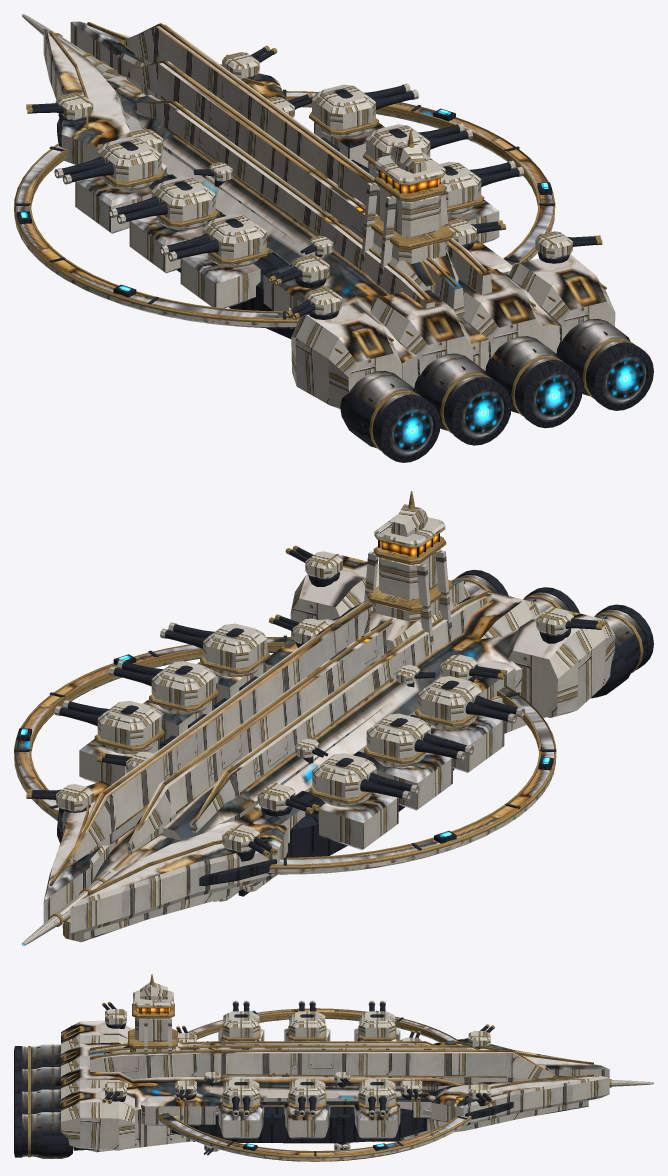
Rendered from authority-arbiter.glb.
3 views of the same model, one above another, from view 1: azimuth 30°, elevation 25°; view 2: azimuth 150°, elevation 25°; view 3: azimuth 270°, elevation 25° (orthographic). The views are drawn at different scales.
Visible parts, largest first — view 1: hull / Authority ivory, navy and antique gold, interdiction-halo / Authority ivory, navy and antique gold, turret-starboard-1 / Authority ivory, navy and antique gold, turret-port-1 / Authority ivory, navy and antique gold, turret-port-3 / Authority ivory, navy and antique gold, turret-port-2 / Authority ivory, navy and antique gold, turret-starboard-3 / Authority ivory, navy and antique gold, turret-starboard-2 / Authority ivory, navy and antique gold, secondary-starboard-4 / Authority ivory, navy and antique go, secondary-port-1 / Authority ivory, navy and antique gold, secondary-port-3 / Authority ivory, navy and antique gold, secondary-port-4 / Authority ivory, navy and antique gold (+2 smaller); view 2: hull / Authority ivory, navy and antique gold, interdiction-halo / Authority ivory, navy and antique gold, turret-starboard-3 / Authority ivory, navy and antique gold, turret-starboard-1 / Authority ivory, navy and antique gold, turret-starboard-2 / Authority ivory, navy and antique gold, turret-port-2 / Authority ivory, navy and antique gold, turret-port-1 / Authority ivory, navy and antique gold, turret-port-3 / Authority ivory, navy and antique gold, secondary-port-4 / Authority ivory, navy and antique gold, secondary-starboard-1 / Authority ivory, navy and antique go, secondary-port-2 / Authority ivory, navy and antique gold, secondary-starboard-4 / Authority ivory, navy and antique go (+3 smaller); view 3: hull / Authority ivory, navy and antique gold, interdiction-halo / Authority ivory, navy and antique gold, turret-port-1 / Authority ivory, navy and antique gold, turret-port-2 / Authority ivory, navy and antique gold, turret-port-3 / Authority ivory, navy and antique gold, turret-starboard-2 / Authority ivory, navy and antique gold, turret-starboard-1 / Authority ivory, navy and antique gold, turret-starboard-3 / Authority ivory, navy and antique gold, hull / Ventral hangar and keel plating, secondary-starboard-1 / Authority ivory, navy and antique go, secondary-port-1 / Authority ivory, navy and antique gold, secondary-starboard-4 / Authority ivory, navy and antique go (+4 smaller).
Boxes of the visible parts, x1,y1,x2,y2 form: hull / Authority ivory, navy and antique gold: (22,14,653,462); interdiction-halo / Authority ivory, navy and antique gold: (14,89,555,326); turret-starboard-1 / Authority ivory, navy and antique gold: (309,83,418,135); turret-port-1 / Authority ivory, navy and antique gold: (54,137,164,187); turret-port-3 / Authority ivory, navy and antique gold: (159,214,269,264); turret-port-2 / Authority ivory, navy and antique gold: (108,176,218,227); turret-starboard-3 / Authority ivory, navy and antique gold: (439,160,524,212); turret-starboard-2 / Authority ivory, navy and antique gold: (363,123,472,165); secondary-starboard-4 / Authority ivory, navy and antique go: (535,231,602,258); secondary-port-1 / Authority ivory, navy and antique gold: (26,92,93,120); secondary-port-3 / Authority ivory, navy and antique gold: (268,254,329,285); secondary-port-4 / Authority ivory, navy and antique gold: (285,287,342,319); hull / Authority ivory, navy and antique gold: (22,491,653,945); interdiction-halo / Authority ivory, navy and antique gold: (14,635,556,873); turret-starboard-3 / Authority ivory, navy and antique gold: (160,622,270,674); turret-starboard-1 / Authority ivory, navy and antique gold: (54,700,164,751); turret-starboard-2 / Authority ivory, navy and antique gold: (108,660,218,711); turret-port-2 / Authority ivory, navy and antique gold: (364,713,473,764); turret-port-1 / Authority ivory, navy and antique gold: (309,753,419,803); turret-port-3 / Authority ivory, navy and antique gold: (415,676,525,726); secondary-port-4 / Authority ivory, navy and antique gold: (536,607,603,635); secondary-starboard-1 / Authority ivory, navy and antique go: (26,784,93,811); secondary-port-2 / Authority ivory, navy and antique gold: (257,783,319,813); secondary-starboard-4 / Authority ivory, navy and antique go: (285,545,342,578); hull / Authority ivory, navy and antique gold: (14,974,653,1157); interdiction-halo / Authority ivory, navy and antique gold: (156,1007,471,1160); turret-port-1 / Authority ivory, navy and antique gold: (358,1000,396,1040); turret-port-2 / Authority ivory, navy and antique gold: (288,1000,326,1040); turret-port-3 / Authority ivory, navy and antique gold: (222,1000,260,1040); turret-starboard-2 / Authority ivory, navy and antique gold: (288,1079,326,1117); turret-starboard-1 / Authority ivory, navy and antique gold: (358,1079,396,1117); turret-starboard-3 / Authority ivory, navy and antique gold: (222,1079,260,1117); hull / Ventral hangar and keel plating: (22,1105,588,1158); secondary-starboard-1 / Authority ivory, navy and antique go: (468,1083,494,1105); secondary-port-1 / Authority ivory, navy and antique gold: (468,1024,494,1046); secondary-starboard-4 / Authority ivory, navy and antique go: (102,1081,126,1103).
Bounding box in the file's own units: 13.72 × 6.91 × 25.06.
2 materials, 2 textured.
